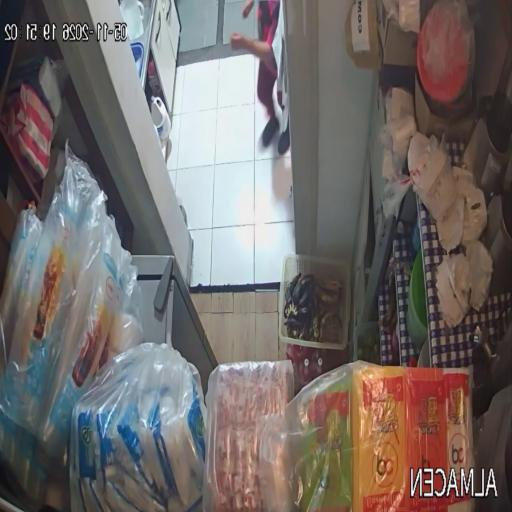Envase para platanos: (278, 255, 351, 349)
Persona2: (230, 0, 285, 147), (278, 109, 290, 155)
Productos culinarios: (0, 142, 144, 506), (259, 361, 473, 512), (70, 343, 206, 512), (204, 361, 294, 512)
Taper: (407, 250, 428, 348)
Taper2: (417, 340, 430, 367)
